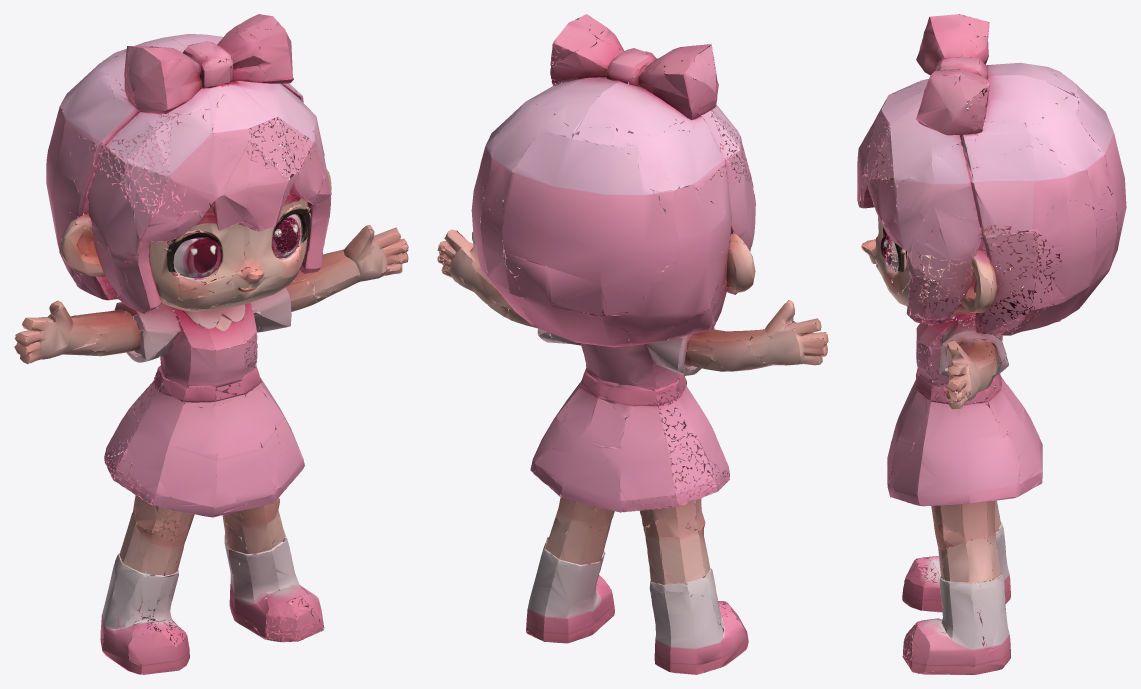
Rendered from Pink.glb.
3 renders of one model, left to right at view 1: azimuth 30°, elevation 25°; view 2: azimuth 150°, elevation 25°; view 3: azimuth 270°, elevation 25°, orthographic. The views are drawn at different scales.
Parts seen in each view (by area): view 1: node_0; view 2: node_0; view 3: node_0.
Part boxes in pixels (x1,y1,x2,y2): node_0: (14, 14, 408, 674); node_0: (437, 14, 828, 674); node_0: (857, 14, 1126, 674).
Size of the model in its own units: 0.7559 by 1.12 by 0.466.
Materials: 1 (1 with a texture image).
